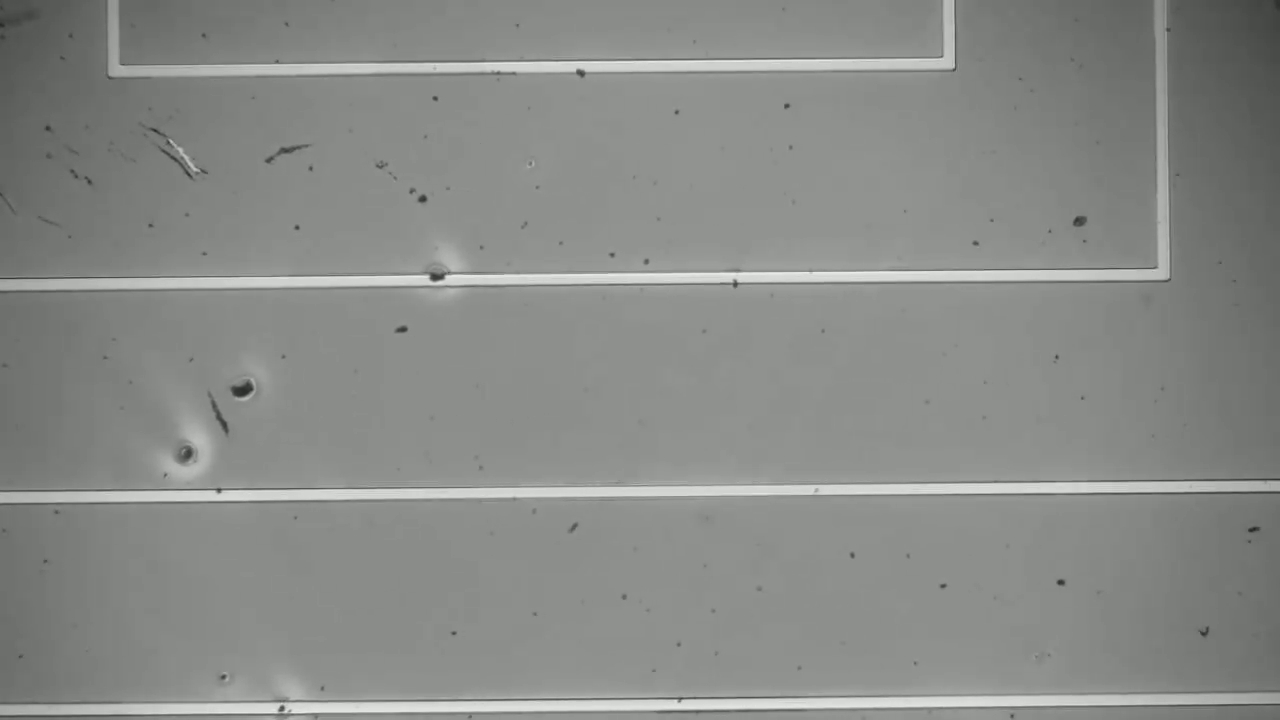stains_enbedded: (414, 257, 458, 293)
